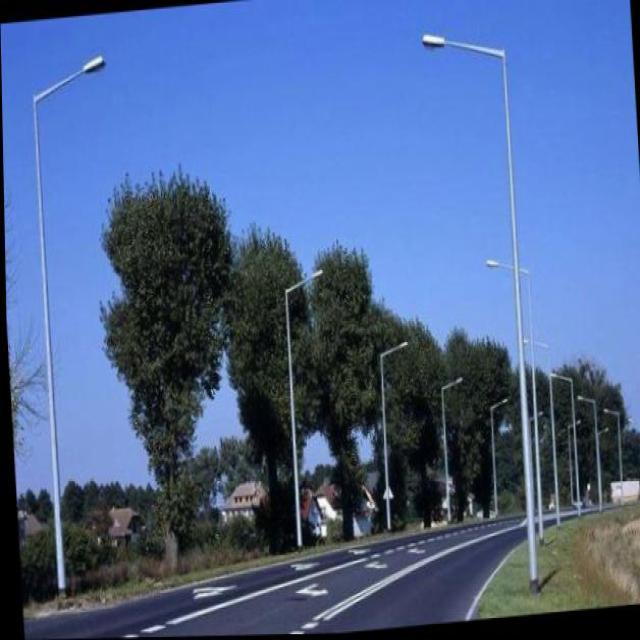pole: (32, 235, 81, 614)
